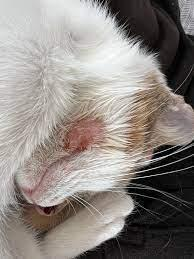ringworm: (66, 118, 100, 155)
